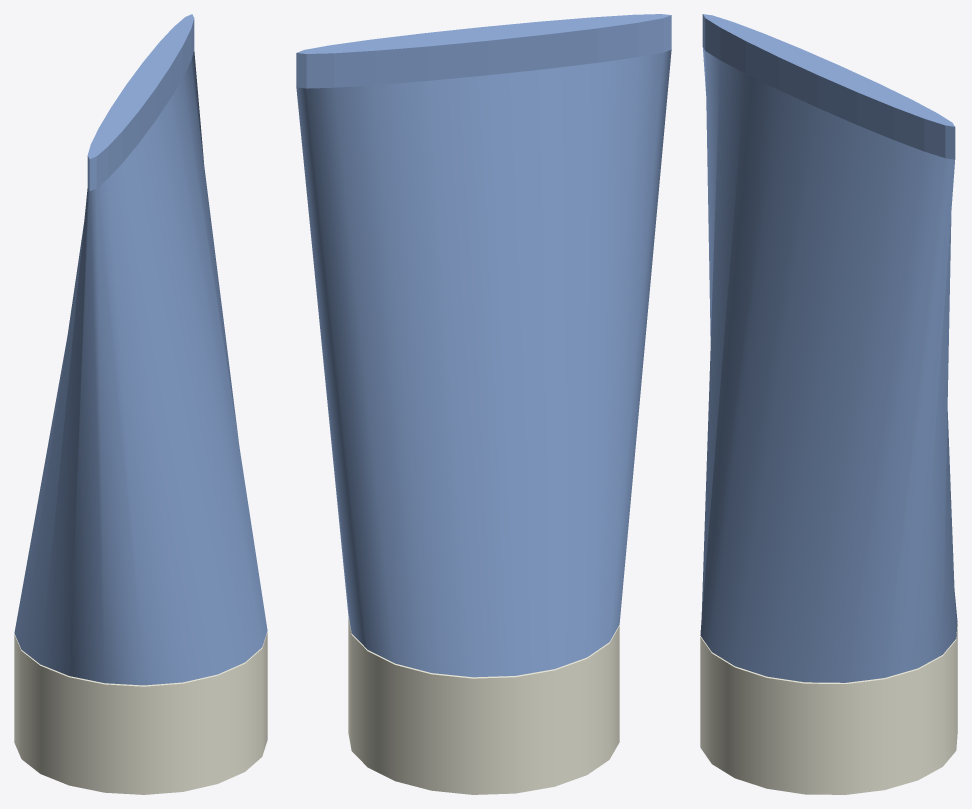
Rendered from Cream2.fbx.
The picture shows the model from 3 angles, left to right: view 1: azimuth 30°, elevation 25°; view 2: azimuth 150°, elevation 25°; view 3: azimuth 270°, elevation 25°; orthographic projection. The views are drawn at different scales.
Visible parts, largest first — view 1: pCylinder4, pCylinder5; view 2: pCylinder4, pCylinder5; view 3: pCylinder4, pCylinder5.
Boxes of the visible parts, <box> form: pCylinder4: <box>14,14,267,685</box>; pCylinder5: <box>14,632,267,794</box>; pCylinder4: <box>296,14,671,677</box>; pCylinder5: <box>348,616,619,794</box>; pCylinder4: <box>700,14,957,682</box>; pCylinder5: <box>700,623,957,794</box>.
Size of the model in its own units: 8.94 by 24.75 by 8.6.
